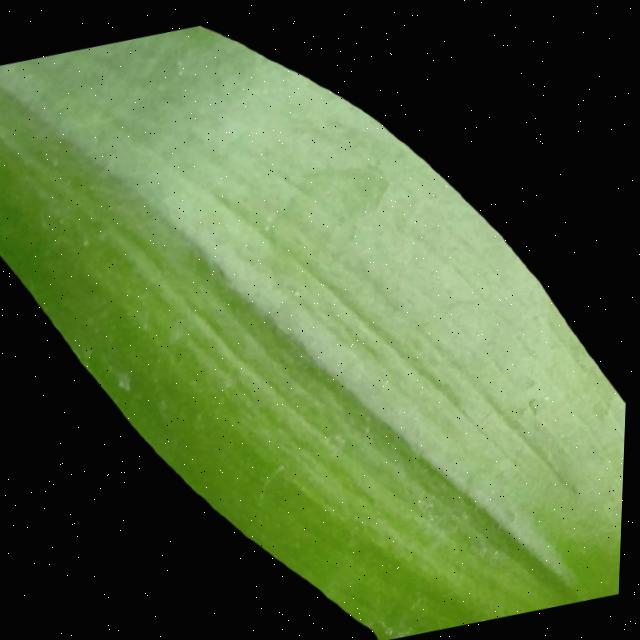mite: (91, 344, 141, 400), (249, 455, 300, 505), (413, 483, 449, 525), (115, 367, 138, 393), (326, 426, 352, 449), (155, 394, 177, 421), (79, 234, 94, 249)
